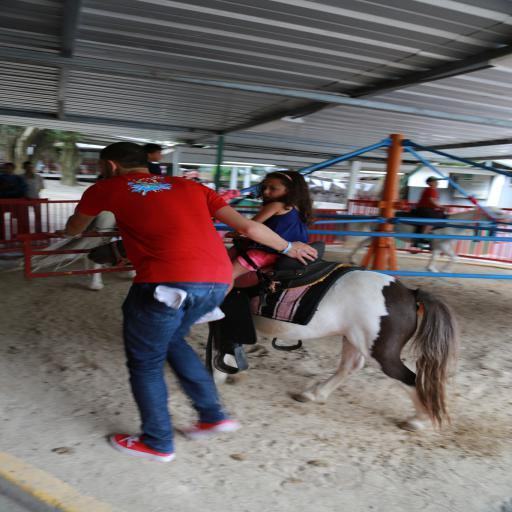horse: (86, 235, 460, 434), (341, 204, 512, 276), (15, 208, 139, 292)
